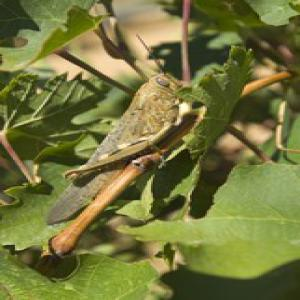locust: (37, 64, 217, 249)
